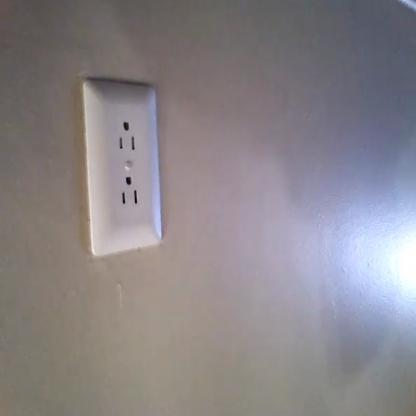OUTLET: (88, 89, 159, 255)
